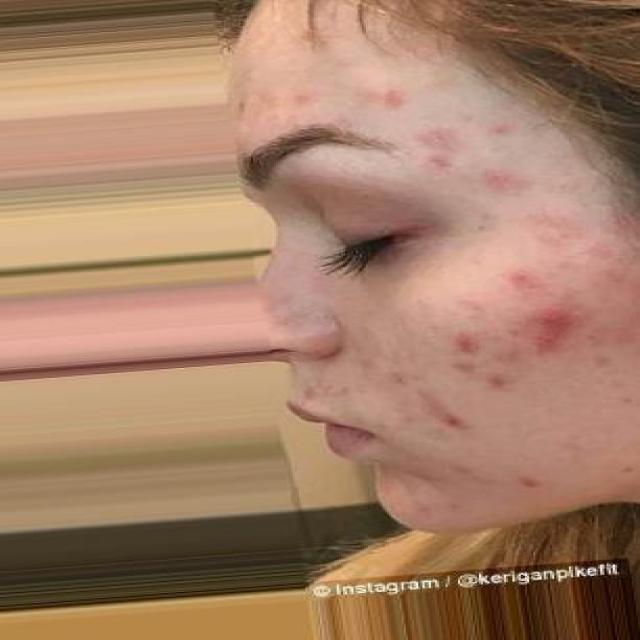acne: (431, 118, 572, 210), (497, 266, 610, 373), (428, 322, 544, 418), (308, 57, 426, 132), (380, 391, 502, 456)
